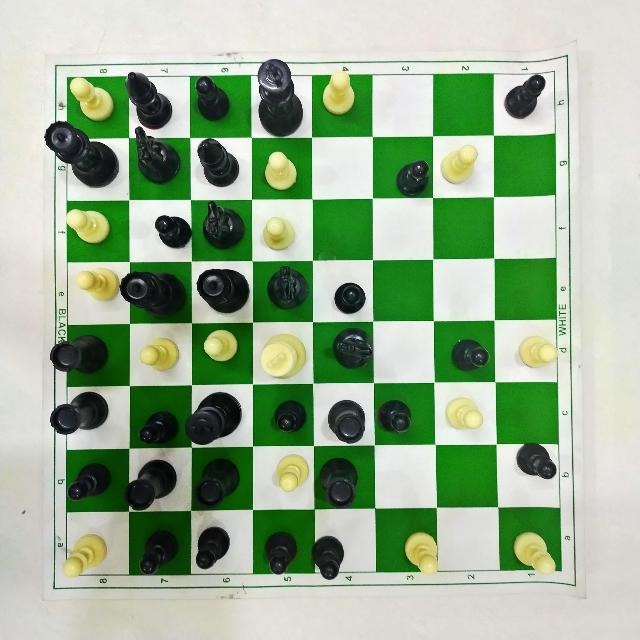black-bishop: (123, 71, 174, 129), (194, 134, 239, 189), (191, 74, 231, 122)
black-king: (252, 56, 306, 138), (185, 388, 243, 447)
black-knight: (131, 125, 183, 183), (51, 333, 113, 377), (199, 197, 245, 248), (264, 265, 310, 313), (329, 327, 375, 371), (446, 332, 495, 372), (75, 264, 119, 303)
black-pawn: (502, 75, 550, 123), (135, 528, 182, 577), (193, 523, 239, 573), (64, 462, 113, 506), (259, 529, 303, 576), (135, 407, 181, 448), (309, 534, 348, 582), (515, 440, 559, 481), (151, 212, 194, 250), (275, 395, 313, 437), (375, 398, 416, 436), (397, 158, 429, 198), (333, 281, 369, 314)
black-queen: (46, 120, 121, 189), (196, 266, 249, 316)
black-rook: (122, 460, 180, 512), (50, 392, 110, 440), (195, 457, 245, 511), (319, 456, 361, 508), (324, 400, 365, 450), (138, 336, 182, 377)
white-king: (258, 334, 309, 379)
white-pawn: (120, 263, 187, 322), (59, 530, 114, 579), (508, 528, 557, 581), (67, 75, 117, 125), (61, 205, 116, 247), (400, 530, 444, 578), (195, 327, 242, 369), (261, 150, 305, 194), (320, 68, 358, 118), (271, 451, 313, 494), (440, 143, 481, 185), (441, 395, 486, 433), (517, 332, 556, 371), (262, 214, 296, 254)
